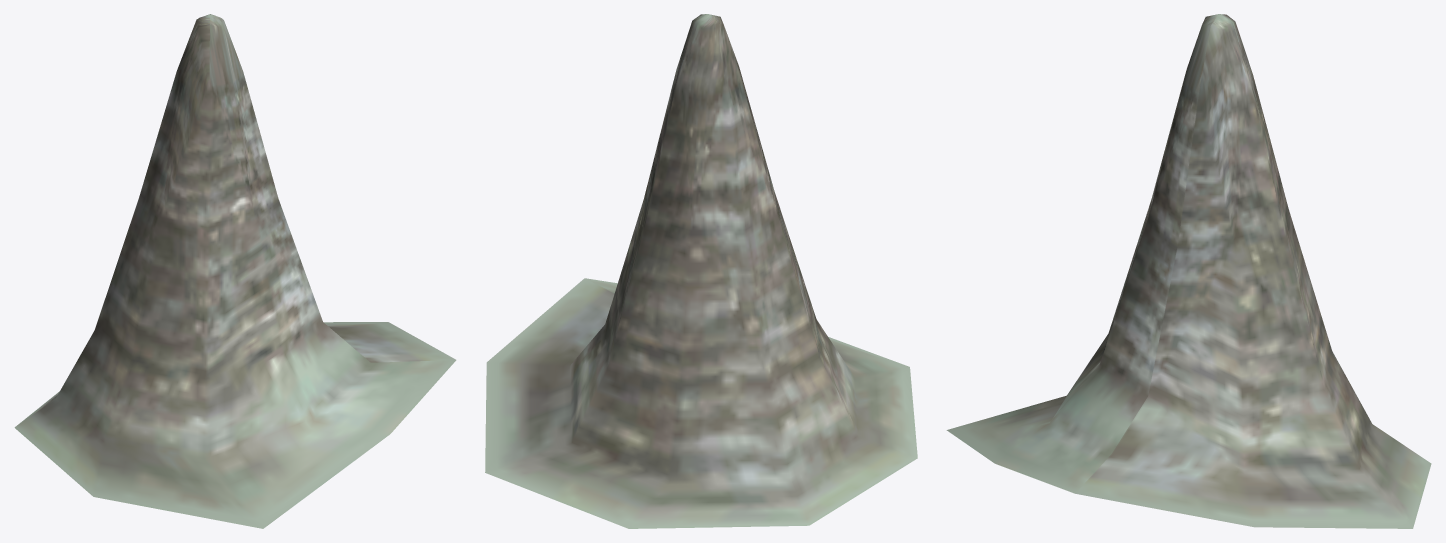
The model's file is TROLLHOLE02_PS-MAINSTALAG44.fbx.
The picture shows the model from 3 angles, left to right: view 1: azimuth 30°, elevation 25°; view 2: azimuth 150°, elevation 25°; view 3: azimuth 270°, elevation 25°; orthographic projection. The views are drawn at different scales.
Visible parts, largest first — view 1: TROLLHOLE02_PS-MAINSTALAG44; view 2: TROLLHOLE02_PS-MAINSTALAG44; view 3: TROLLHOLE02_PS-MAINSTALAG44.
Boxes of the visible parts, <box> form: TROLLHOLE02_PS-MAINSTALAG44: <box>14,14,456,528</box>; TROLLHOLE02_PS-MAINSTALAG44: <box>485,14,917,528</box>; TROLLHOLE02_PS-MAINSTALAG44: <box>946,14,1431,528</box>.
Bounding box in the file's own units: 31874 × 35814 × 34183.
Materials: 1 (1 with a texture image).
